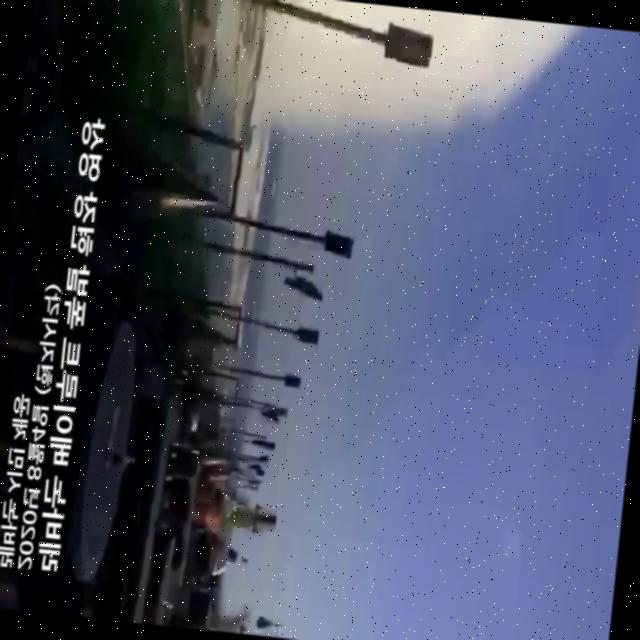explosion: (158, 0, 580, 196)
